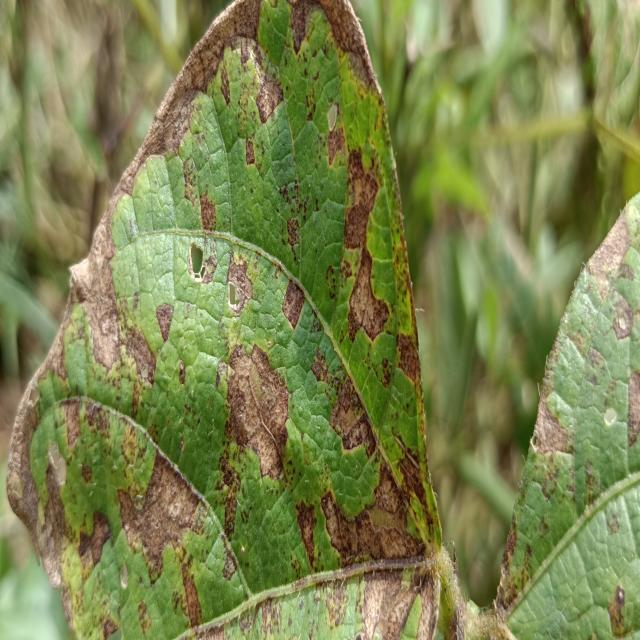Black gram_leaf spot: (9, 1, 441, 640), (494, 188, 640, 640)
